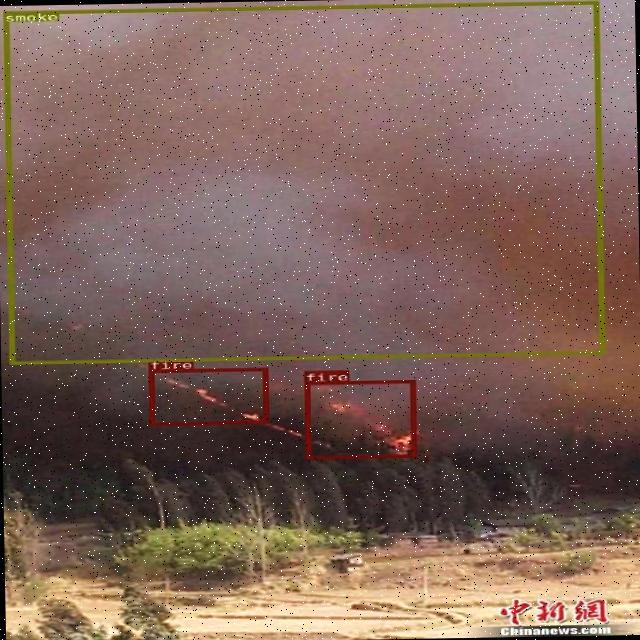fire: (304, 379, 414, 458), (148, 366, 268, 424)
smoke: (2, 1, 604, 363)
